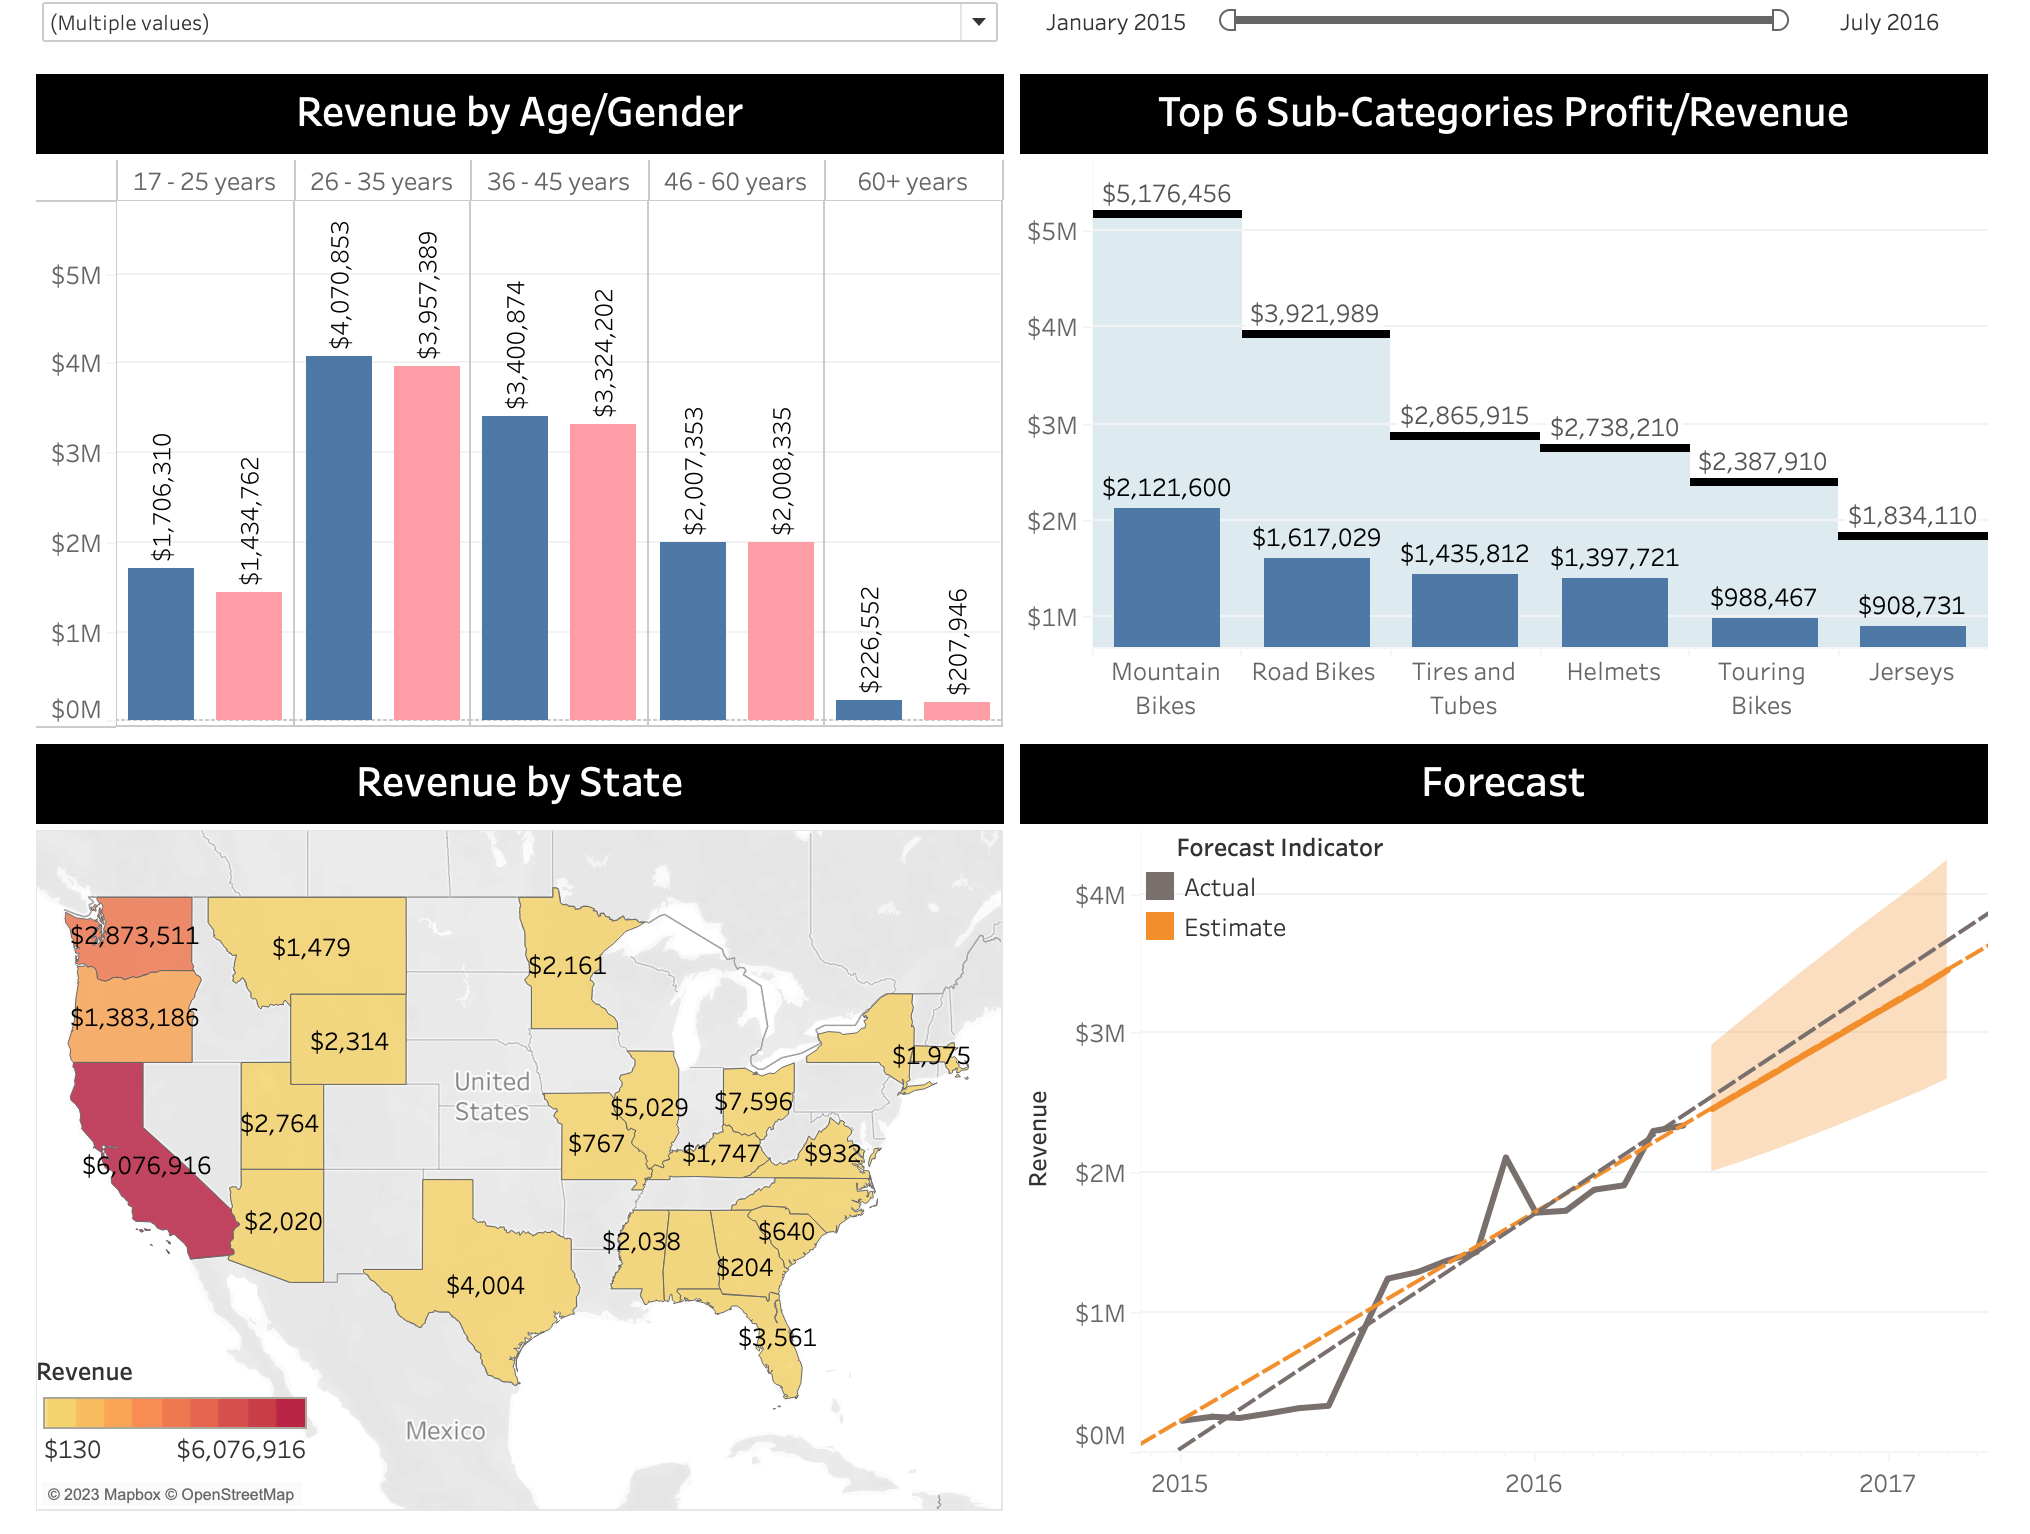

The page's visual inventory and layout, read from the dashboard file:
{"tool":"tableau","page":{"name":"Dashboard 1","canvas":[1000,800],"ordinal":0},"visuals":[{"type":"filter","title":"Revenue by Age/Gender","param":"[federated.1pgwzz40c2pspz155pp7d0l4xy3c].[none:Customer Gender:nk]","box":[8,8,492,57]},{"type":"filter","title":"Forecast","param":"[federated.1pgwzz40c2pspz155pp7d0l4xy3c].[tmn:Date:qk]","box":[500,8,492,57]},{"type":"worksheet","title":"Revenue by Age/Gender","mark":"Automatic","rows":["Revenue"],"cols":["Customer Gender"],"box":[8,65,492,335]},{"type":"worksheet","title":"Sub-Category Profitabiliity","mark":"Automatic","rows":["Calculation_5689946344577339393"],"cols":["Sub Category"],"box":[500,65,492,335]},{"type":"worksheet","title":"Revenue by State","mark":"Automatic","box":[8,400,492,392]},{"type":"worksheet","title":"Forecast","mark":"Automatic","rows":["Revenue"],"cols":["Date"],"box":[500,400,492,392]},{"type":"legend","title":"Forecast","param":"[federated.1pgwzz40c2pspz155pp7d0l4xy3c].[none:Forecast Indicator:nk]","box":[564,447,140,58]},{"type":"legend","title":"Revenue by State","param":"[federated.1pgwzz40c2pspz155pp7d0l4xy3c].[sum:Revenue:qk]","box":[12,709,140,76]}]}

Visuals, with their boxes on the page's 1000x800 design canvas (x1, y1, x2, y2). These are canvas units, not pixel positions in the 2030x1534 screenshot, which may show the page scaled, cropped or inside an application window:
"Revenue by Age/Gender" filter: box(8, 8, 500, 65)
"Forecast" filter: box(500, 8, 992, 65)
"Revenue by Age/Gender" worksheet: box(8, 65, 500, 400)
"Sub-Category Profitabiliity" worksheet: box(500, 65, 992, 400)
"Revenue by State" worksheet: box(8, 400, 500, 792)
"Forecast" worksheet: box(500, 400, 992, 792)
"Forecast" legend: box(564, 447, 704, 505)
"Revenue by State" legend: box(12, 709, 152, 785)
